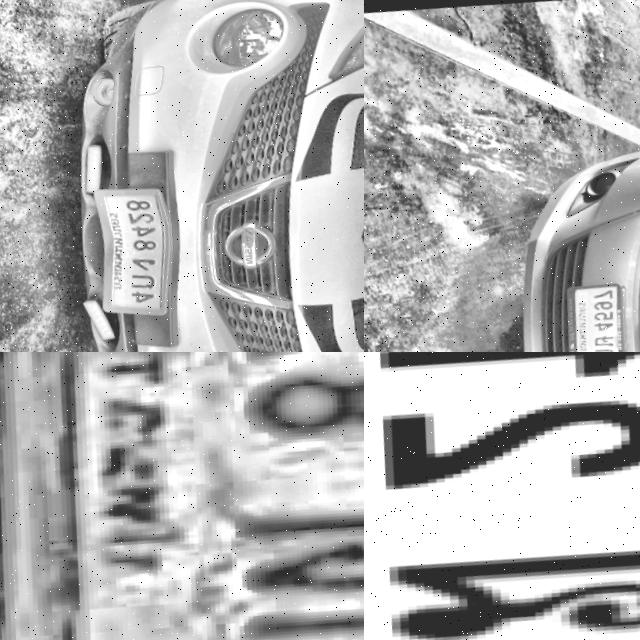license-plate: (0, 352, 364, 640), (364, 352, 640, 640), (92, 175, 194, 319), (562, 272, 640, 352)
